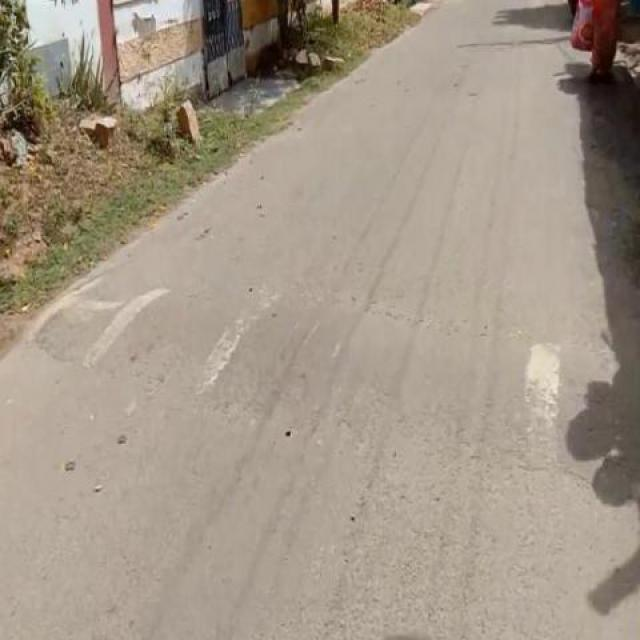Speed Bump: (25, 275, 640, 453)
